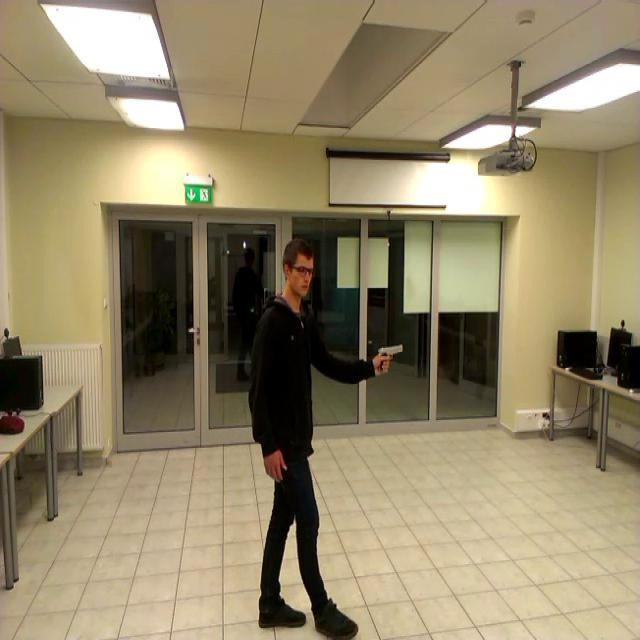weapon: (375, 346, 404, 376)
